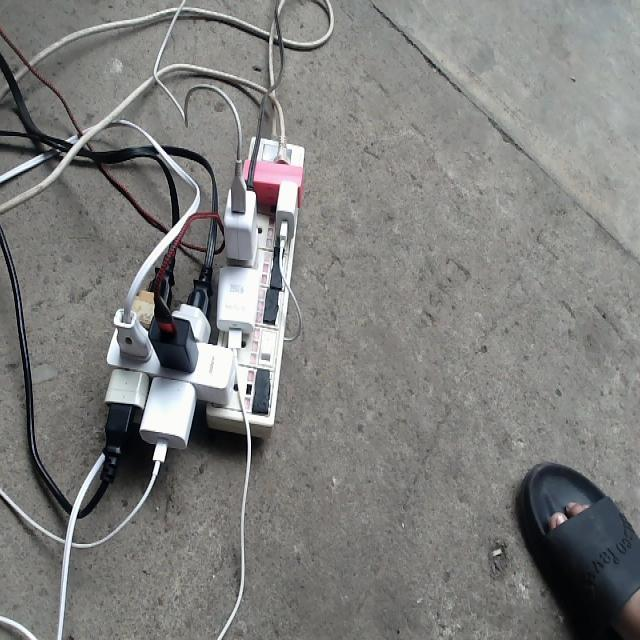-: (99, 135, 304, 484)
